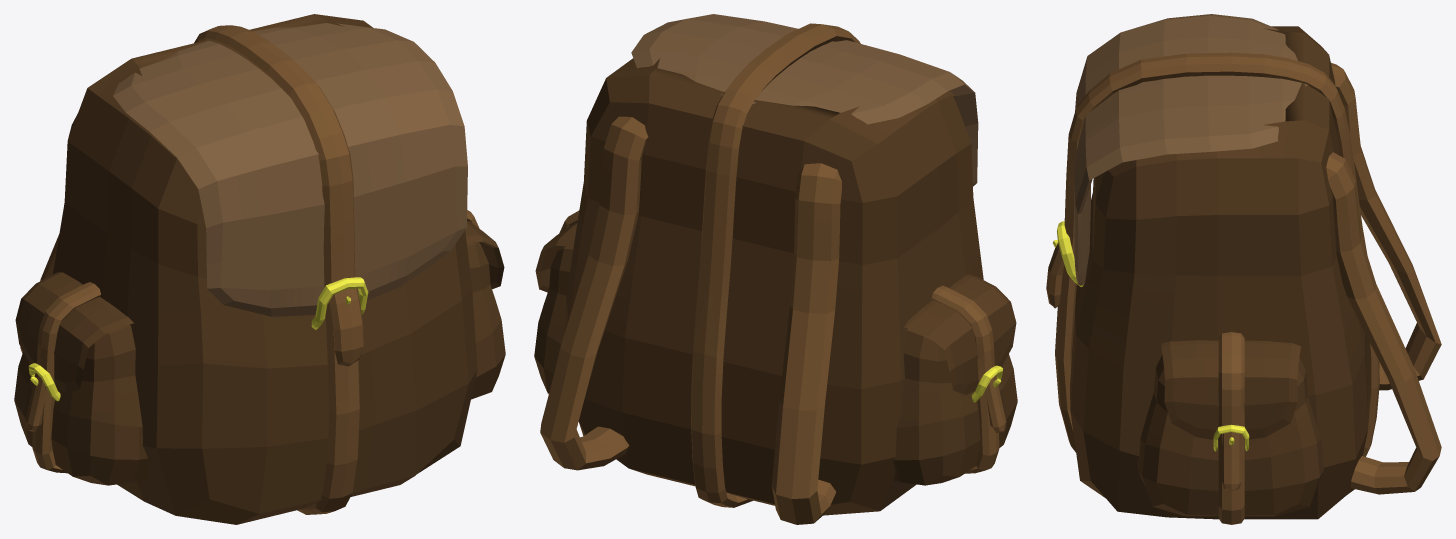
The model's file is animal_company_-_backpack.glb.
3 renders of one model, left to right at view 1: azimuth 30°, elevation 25°; view 2: azimuth 150°, elevation 25°; view 3: azimuth 270°, elevation 25°, orthographic. The views are drawn at different scales.
Visible parts, largest first — view 1: Main_5_7, Backpack_lid_7_12; view 2: Main_5_7, Backpack_lid_7_12; view 3: Main_5_7, Backpack_lid_7_12.
Part boxes in pixels (x1,y1,x2,y2): Main_5_7: [14, 14, 505, 524]; Backpack_lid_7_12: [113, 23, 467, 366]; Main_5_7: [534, 58, 1017, 524]; Backpack_lid_7_12: [631, 14, 978, 186]; Main_5_7: [1053, 26, 1441, 524]; Backpack_lid_7_12: [1046, 14, 1337, 308].
Bounding box in the file's own units: 0.5336 × 0.4753 × 0.4019.
